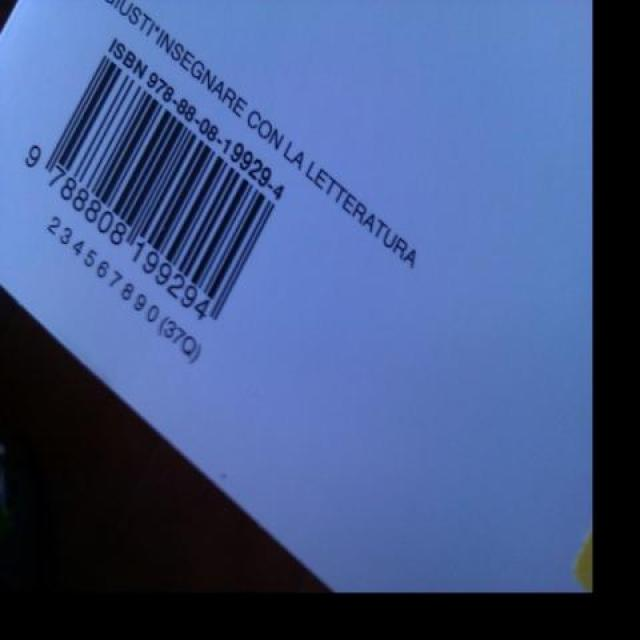Barcode: (11, 21, 294, 339)
